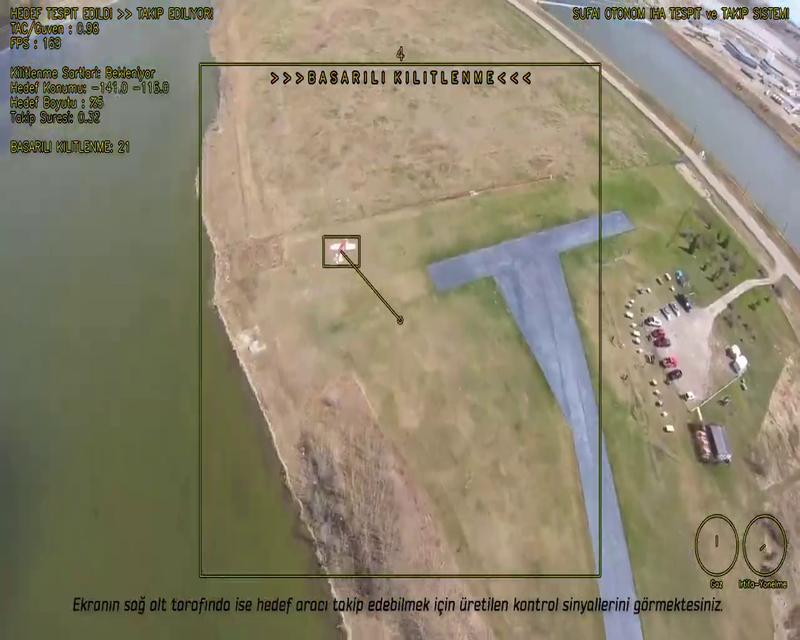UAV: (330, 239, 356, 263)
